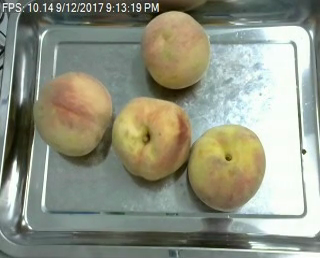Peach: (187, 123, 267, 211), (112, 97, 191, 182), (33, 70, 111, 156), (141, 9, 210, 88)
